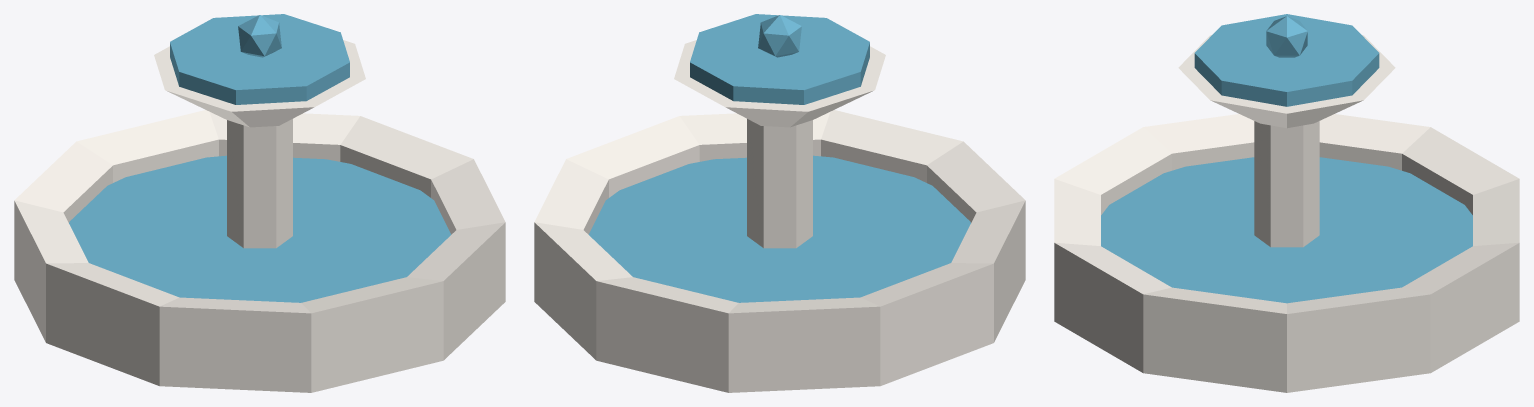
File: fountain.glb
3 renders of one model, left to right at view 1: azimuth 30°, elevation 25°; view 2: azimuth 150°, elevation 25°; view 3: azimuth 270°, elevation 25°, orthographic.
Visible parts, largest first — view 1: park-fountain; view 2: park-fountain; view 3: park-fountain.
Boxes of the visible parts, x1=… form: park-fountain: x1=14, y1=14, x2=505, y2=392; park-fountain: x1=534, y1=14, x2=1025, y2=392; park-fountain: x1=1054, y1=14, x2=1519, y2=392.
Bounding box in the file's own units: 0.9 × 0.555 × 0.856.
